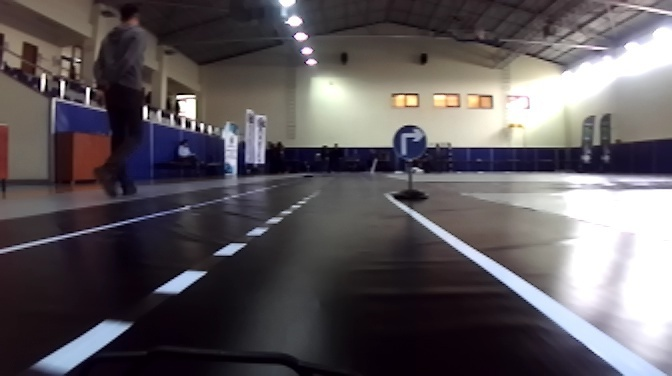saga_donus: (392, 126, 427, 161)
